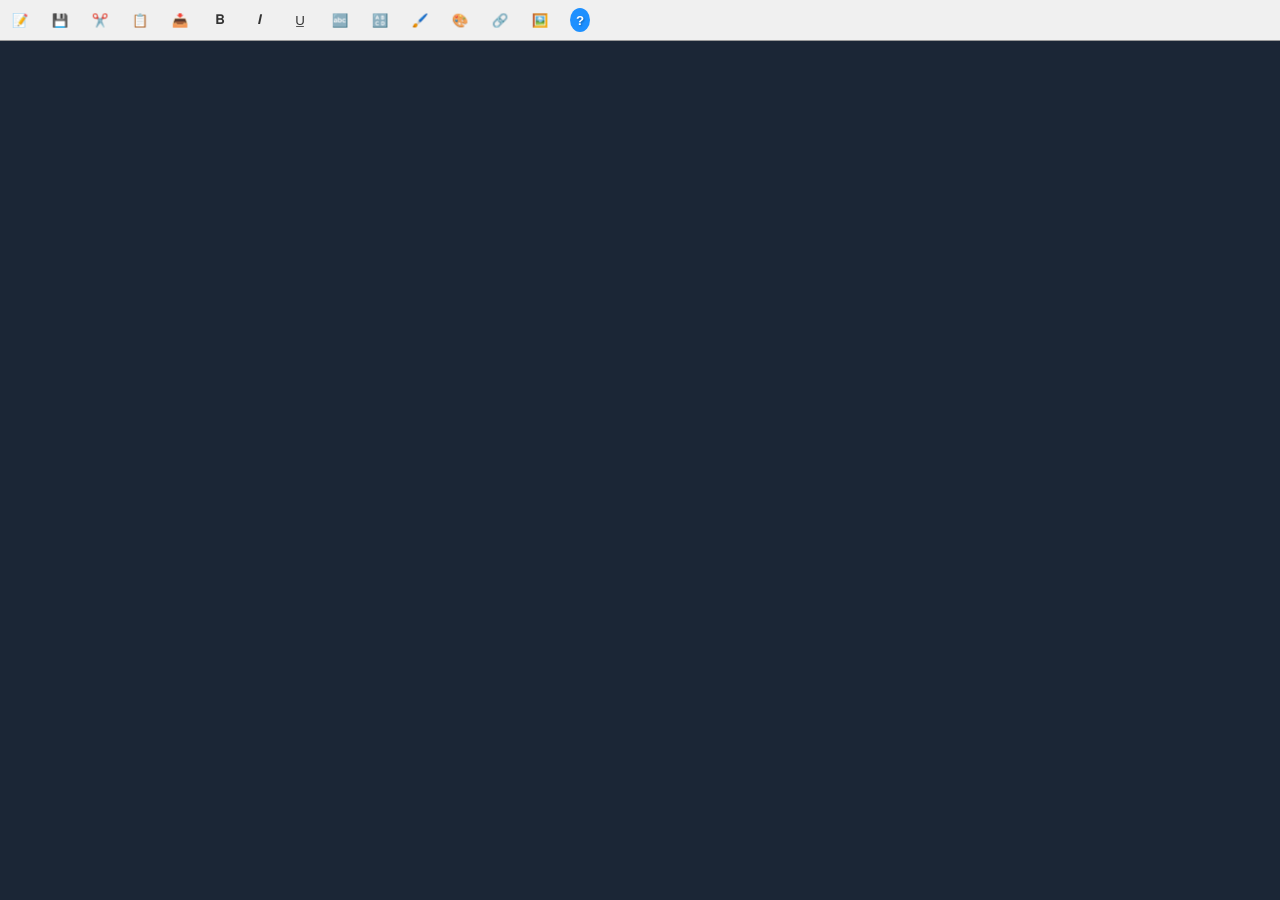
Test case: MenuBar › opens Documentation dialog
Click the button named "Help" at (580, 20), box [564, 4, 596, 36]
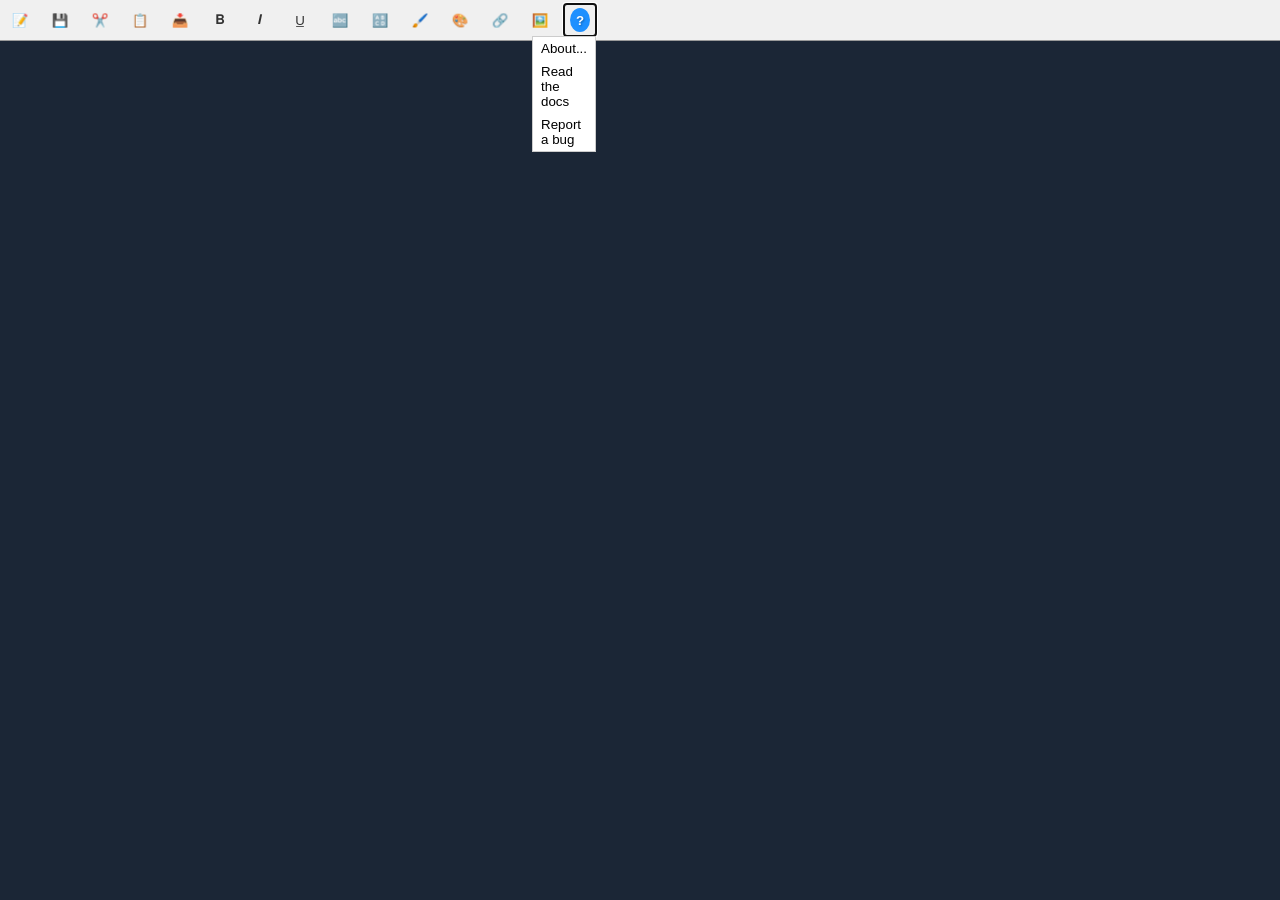
Click the menu item "Read the docs" at (564, 86), box [533, 60, 595, 113]
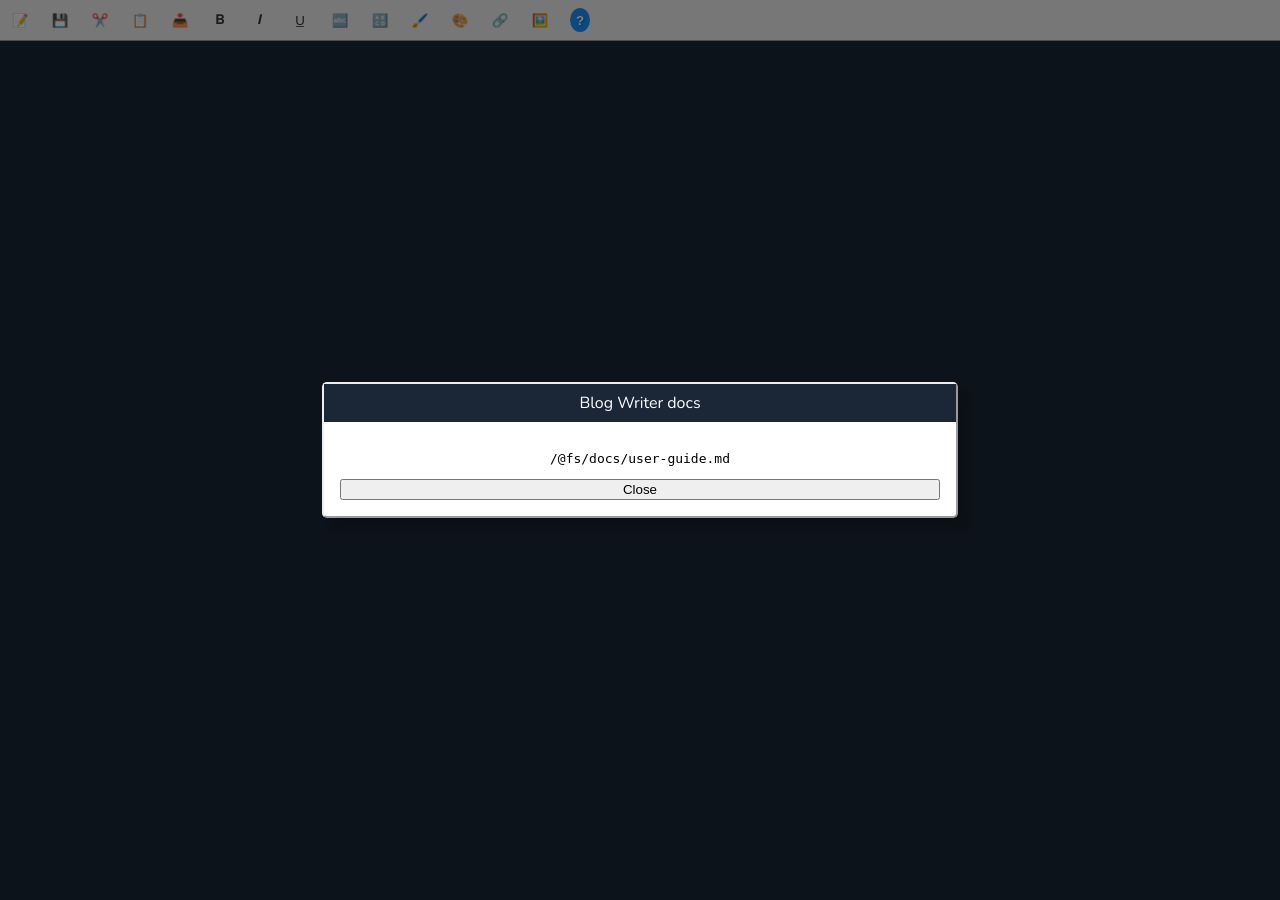
expect the text "Blog Writer docs" is shown: met, box [324, 384, 956, 422]
